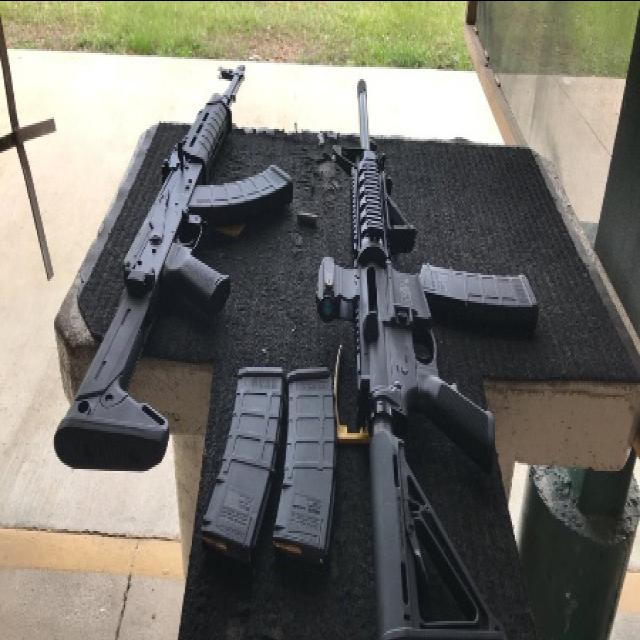rifle: (318, 77, 537, 640), (36, 61, 296, 483)
